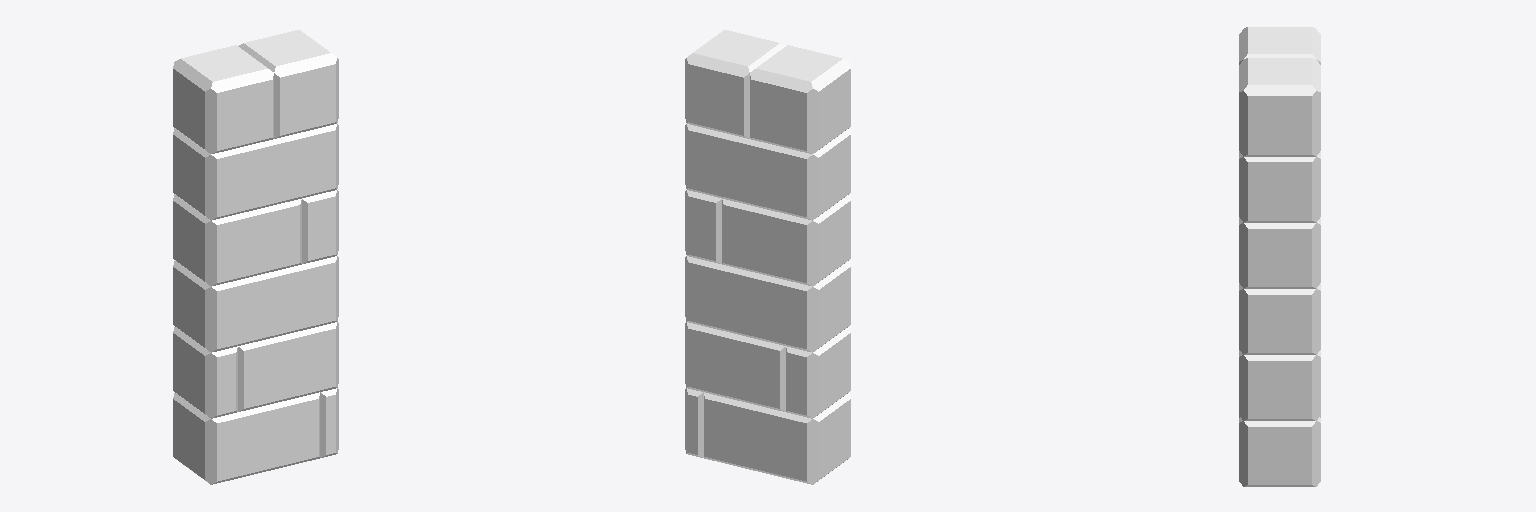
Rendered from Wall1_Half_H1.0.obj.
3 renders of one model, left to right at view 1: azimuth 30°, elevation 25°; view 2: azimuth 150°, elevation 25°; view 3: azimuth 270°, elevation 25°, orthographic.
Visible parts, largest first — view 1: Box003; view 2: Box003; view 3: Box003.
Boxes of the visible parts, box(x1,y1,x2,y2) form: Box003: box(173, 30, 338, 484); Box003: box(685, 30, 850, 484); Box003: box(1239, 27, 1320, 486).
Bounding box in the file's own units: 1.06 × 3.03 × 0.56.